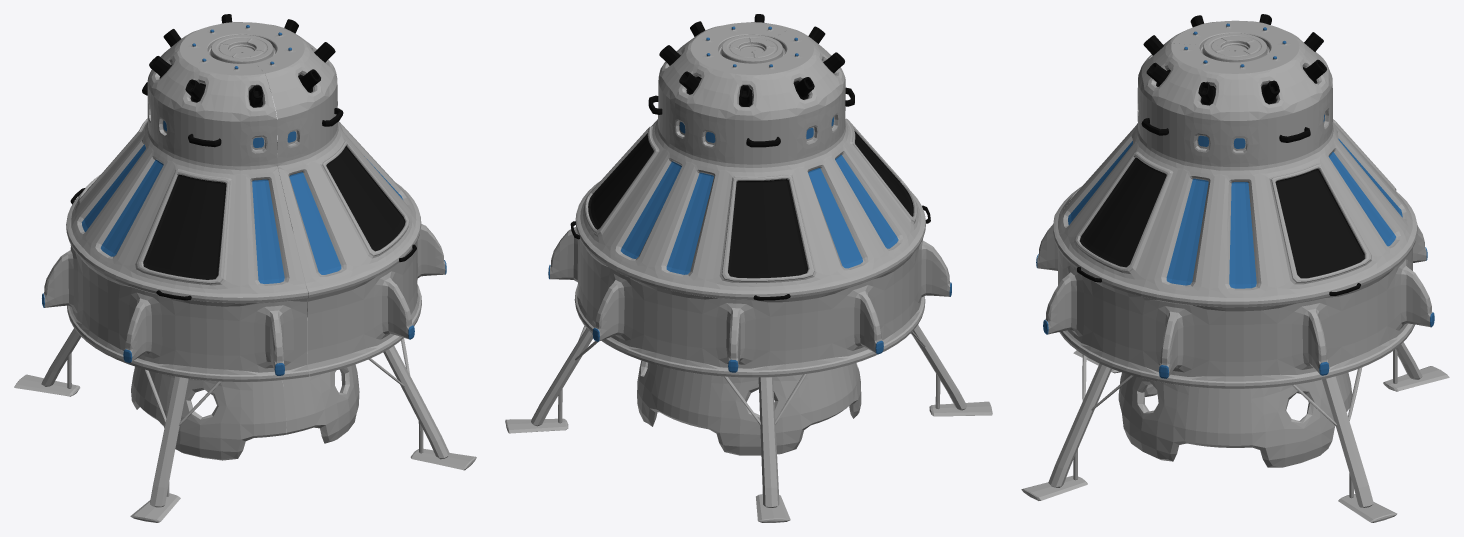
Rendered from space_ship.obj.
3 renders of one model, left to right at view 1: azimuth 30°, elevation 25°; view 2: azimuth 150°, elevation 25°; view 3: azimuth 270°, elevation 25°, orthographic. The views are drawn at different scales.
Parts seen in each view (by area): view 1: Plane.001; view 2: Plane.001; view 3: Plane.001.
Boxes of the visible parts, x1,y1,x2,y2 form: Plane.001: [14, 14, 476, 522]; Plane.001: [505, 14, 992, 522]; Plane.001: [1021, 14, 1449, 522].
Bounding box in the file's own units: 2.5 × 2.52 × 2.5.
